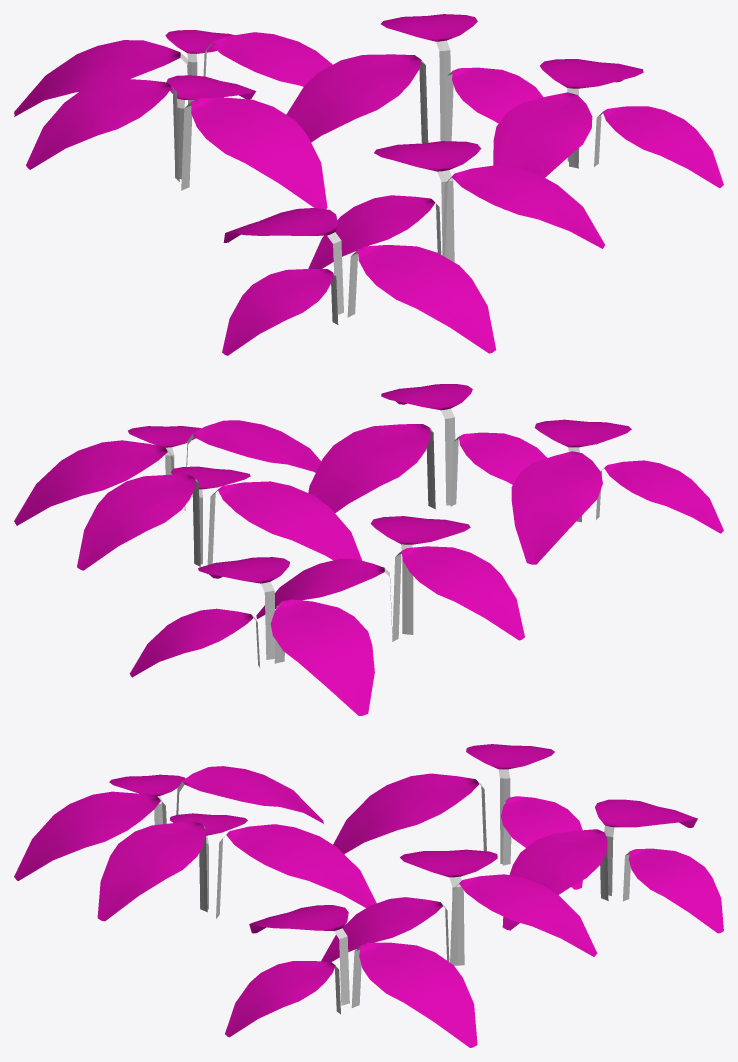
The model's file is Plant_Ground copy.fbx.
3 views of the same model, one above another, from view 1: azimuth 30°, elevation 25°; view 2: azimuth 150°, elevation 25°; view 3: azimuth 270°, elevation 25° (orthographic). The views are drawn at different scales.
Parts seen in each view (by area): view 1: LeafALP.006; view 2: LeafALP.006; view 3: LeafALP.006.
Boxes of the visible parts, box(x1,y1,x2,y2) form: LeafALP.006: box(14, 14, 723, 355); LeafALP.006: box(14, 384, 723, 715); LeafALP.006: box(14, 744, 723, 1047).
Size of the model in its own units: 245 by 40.24 by 282.
